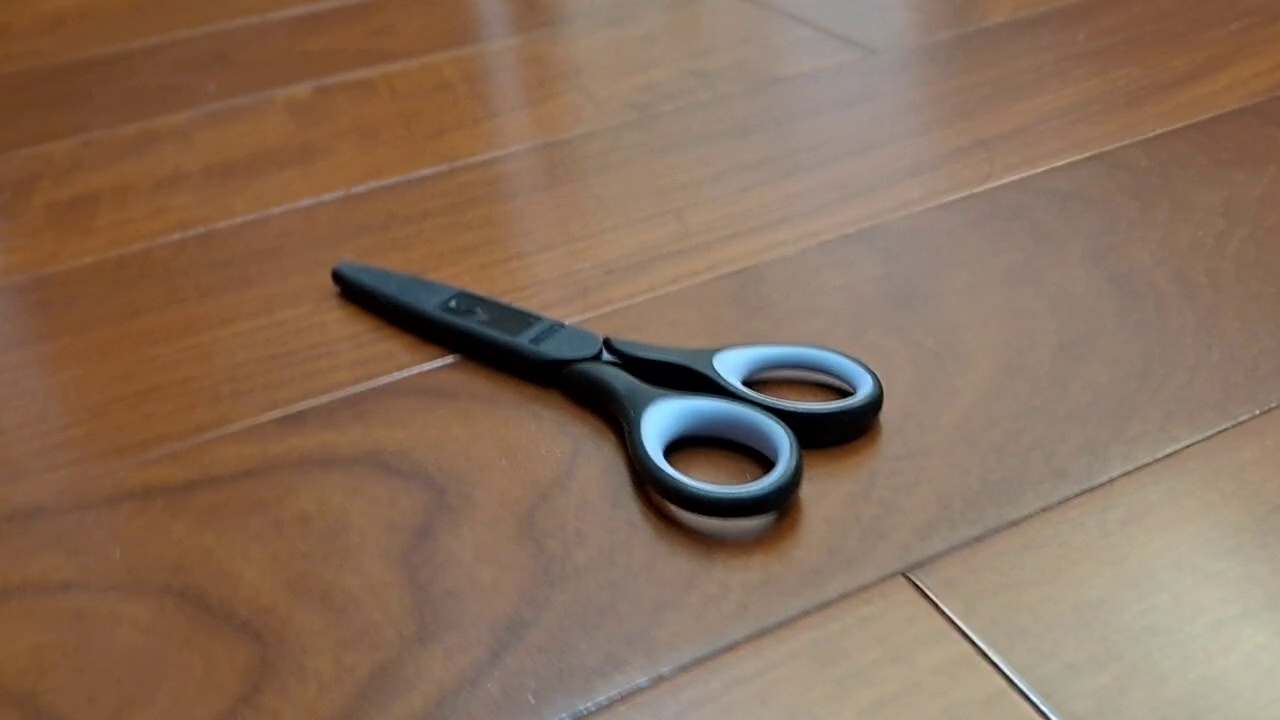scissors: (330, 258, 886, 520)
